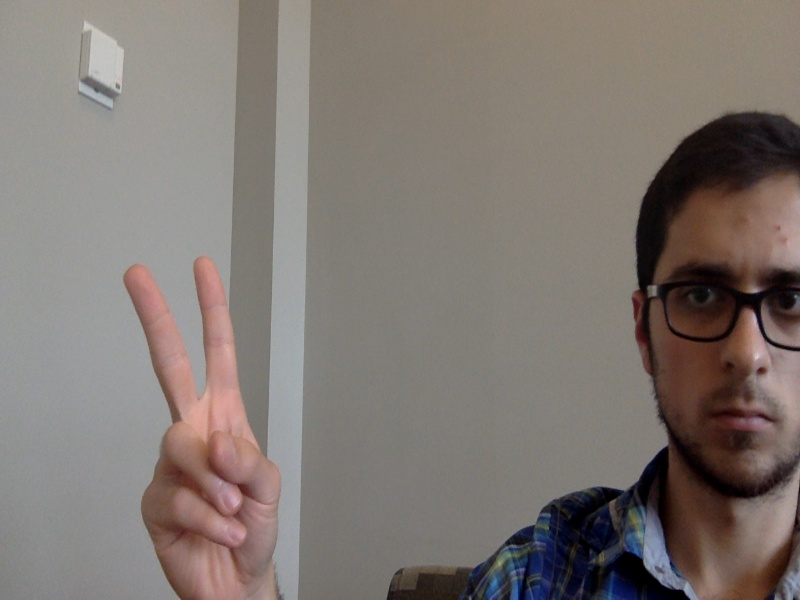2-hand: (120, 264, 284, 598)
